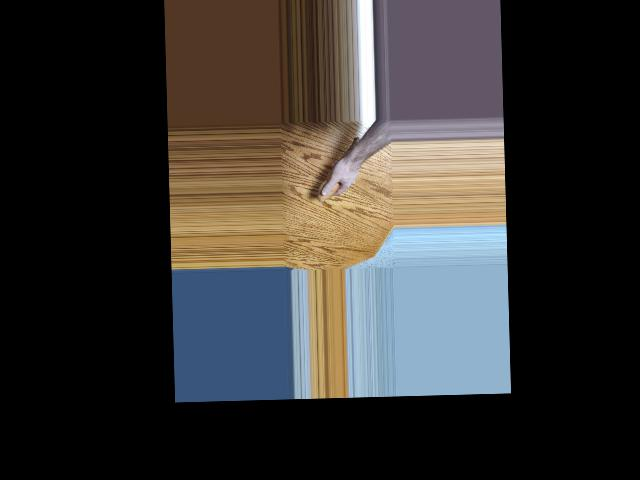sweet_potato: (315, 137, 361, 202)
